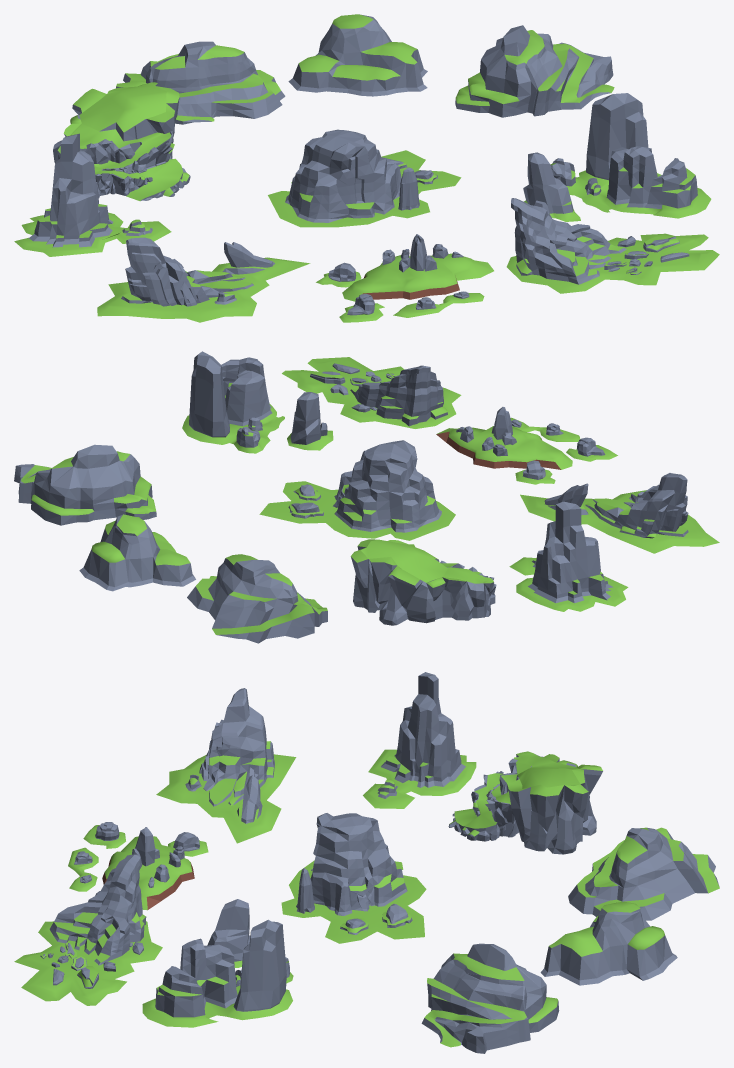
File: geostructures_grassy.fbx
3 renders of one model, top to bottom at view 1: azimuth 30°, elevation 25°; view 2: azimuth 150°, elevation 25°; view 3: azimuth 270°, elevation 25°, orthographic. The views are drawn at different scales.
Visible parts, largest first — view 1: landformation_01_v5b_EXPORT:Layer7, landformation_01_v5b_EXPORT:Layer10, landformation_01_v5b_EXPORT:Layer9, landformation_01_v5b_EXPORT:Layer2, landformation_01_v5b_EXPORT:Layer6, landformation_01_v5b_EXPORT:Layer5, landformation_01_v5b_EXPORT:Layer3, landformation_01_v5b_EXPORT:Layer8, landformation_01_v5b_EXPORT:Layer4, landformation_01_v5b_EXPORT:Layer1; view 2: landformation_01_v5b_EXPORT:Layer10, landformation_01_v5b_EXPORT:Layer2, landformation_01_v5b_EXPORT:Layer7, landformation_01_v5b_EXPORT:Layer5, landformation_01_v5b_EXPORT:Layer3, landformation_01_v5b_EXPORT:Layer9, landformation_01_v5b_EXPORT:Layer6, landformation_01_v5b_EXPORT:Layer1, landformation_01_v5b_EXPORT:Layer8, landformation_01_v5b_EXPORT:Layer4; view 3: landformation_01_v5b_EXPORT:Layer10, landformation_01_v5b_EXPORT:Layer7, landformation_01_v5b_EXPORT:Layer9, landformation_01_v5b_EXPORT:Layer2, landformation_01_v5b_EXPORT:Layer5, landformation_01_v5b_EXPORT:Layer6, landformation_01_v5b_EXPORT:Layer3, landformation_01_v5b_EXPORT:Layer1, landformation_01_v5b_EXPORT:Layer4, landformation_01_v5b_EXPORT:Layer8.
Part boxes in pixels (x1=…): landformation_01_v5b_EXPORT:Layer7: x1=523, y1=93, x2=711, y2=221; landformation_01_v5b_EXPORT:Layer10: x1=268, y1=129, x2=461, y2=227; landformation_01_v5b_EXPORT:Layer9: x1=506, y1=198, x2=719, y2=293; landformation_01_v5b_EXPORT:Layer2: x1=53, y1=82, x2=190, y2=201; landformation_01_v5b_EXPORT:Layer6: x1=97, y1=237, x2=310, y2=322; landformation_01_v5b_EXPORT:Layer5: x1=455, y1=25, x2=614, y2=117; landformation_01_v5b_EXPORT:Layer3: x1=116, y1=41, x2=285, y2=124; landformation_01_v5b_EXPORT:Layer8: x1=316, y1=234, x2=493, y2=322; landformation_01_v5b_EXPORT:Layer4: x1=288, y1=14, x2=427, y2=96; landformation_01_v5b_EXPORT:Layer1: x1=14, y1=133, x2=171, y2=256; landformation_01_v5b_EXPORT:Layer10: x1=259, y1=440, x2=455, y2=540; landformation_01_v5b_EXPORT:Layer2: x1=350, y1=539, x2=496, y2=625; landformation_01_v5b_EXPORT:Layer7: x1=182, y1=351, x2=333, y2=453; landformation_01_v5b_EXPORT:Layer5: x1=14, y1=444, x2=156, y2=525; landformation_01_v5b_EXPORT:Layer3: x1=187, y1=554, x2=327, y2=643; landformation_01_v5b_EXPORT:Layer9: x1=282, y1=357, x2=461, y2=428; landformation_01_v5b_EXPORT:Layer6: x1=520, y1=473, x2=719, y2=553; landformation_01_v5b_EXPORT:Layer1: x1=509, y1=501, x2=628, y2=611; landformation_01_v5b_EXPORT:Layer8: x1=436, y1=407, x2=617, y2=484; landformation_01_v5b_EXPORT:Layer4: x1=79, y1=514, x2=195, y2=591; landformation_01_v5b_EXPORT:Layer10: x1=281, y1=813, x2=426, y2=943; landformation_01_v5b_EXPORT:Layer7: x1=142, y1=899, x2=293, y2=1027; landformation_01_v5b_EXPORT:Layer9: x1=14, y1=854, x2=162, y2=1005; landformation_01_v5b_EXPORT:Layer2: x1=448, y1=751, x2=602, y2=854; landformation_01_v5b_EXPORT:Layer5: x1=421, y1=943, x2=559, y2=1053; landformation_01_v5b_EXPORT:Layer6: x1=156, y1=688, x2=296, y2=843; landformation_01_v5b_EXPORT:Layer3: x1=568, y1=827, x2=719, y2=920; landformation_01_v5b_EXPORT:Layer1: x1=363, y1=672, x2=476, y2=808; landformation_01_v5b_EXPORT:Layer4: x1=540, y1=901, x2=677, y2=985; landformation_01_v5b_EXPORT:Layer8: x1=68, y1=822, x2=208, y2=910.
Size of the model in its own units: 63321 by 9372 by 59550.
